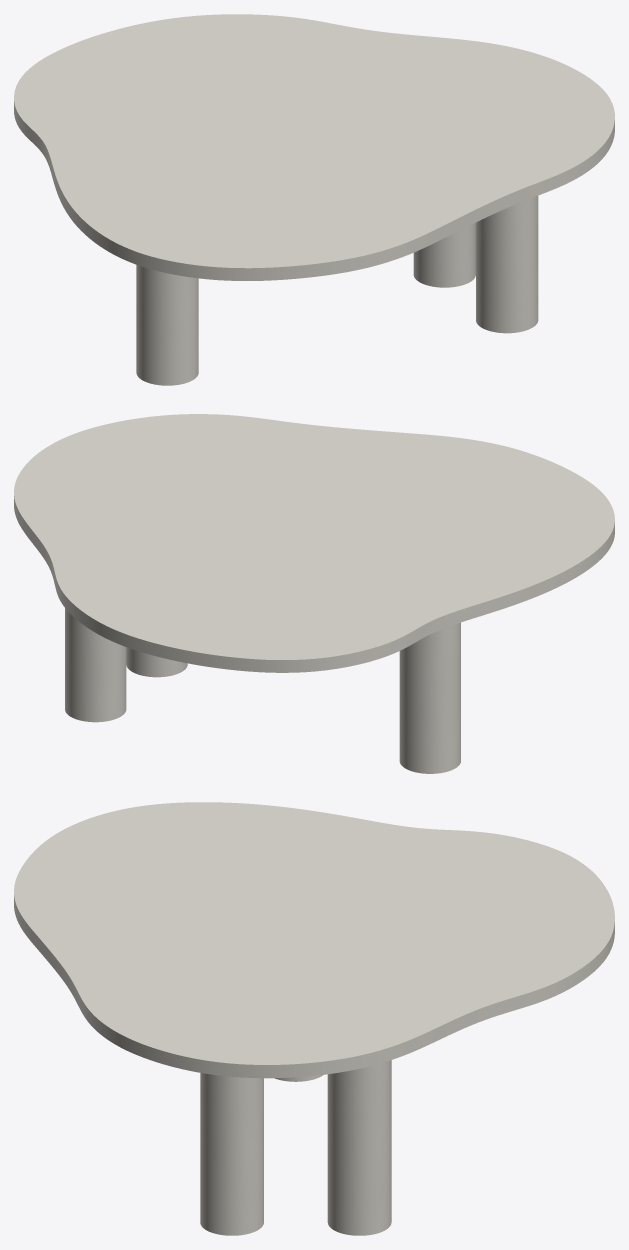
File: pale_topone_standard_cylinder.glb
The picture shows the model from 3 angles, top to bottom: view 1: azimuth 30°, elevation 25°; view 2: azimuth 150°, elevation 25°; view 3: azimuth 270°, elevation 25°; orthographic projection. The views are drawn at different scales.
Parts seen in each view (by area): view 1: standard_topone, cylinder; view 2: standard_topone, cylinder; view 3: standard_topone, cylinder.
Boxes of the visible parts, left/top/right/bottom form: standard_topone: left=14, top=14, right=614, bottom=280; cylinder: left=136, top=196, right=538, bottom=385; standard_topone: left=14, top=414, right=614, bottom=672; cylinder: left=65, top=608, right=460, bottom=773; standard_topone: left=14, top=802, right=614, bottom=1078; cylinder: left=200, top=1060, right=391, bottom=1235.
Bounding box in the file's own units: 6.83 × 2.52 × 6.6.
Materials: 1 (1 with a texture image).
